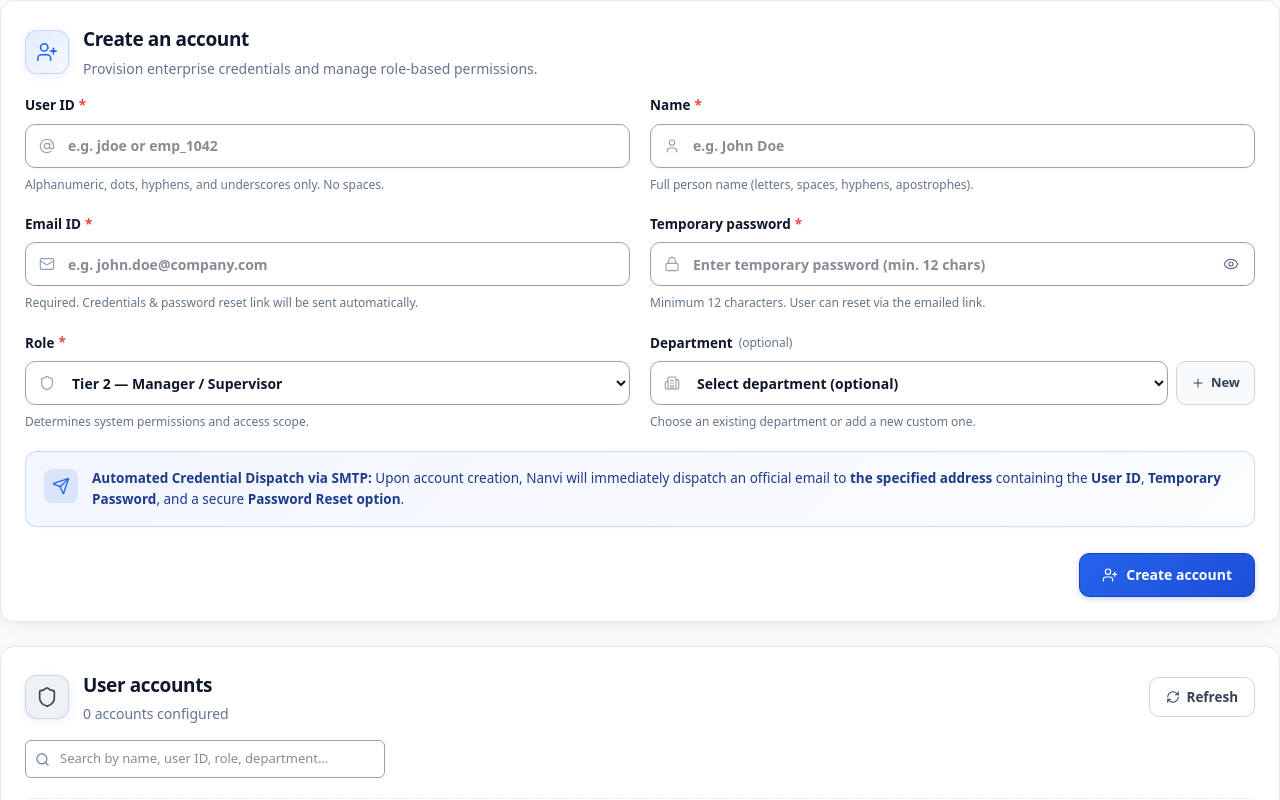
enforces required Email ID and blocks creation without it
Type "valid.user" into the field labelled "User ID" at x=328, y=146, box [25,124,630,168]
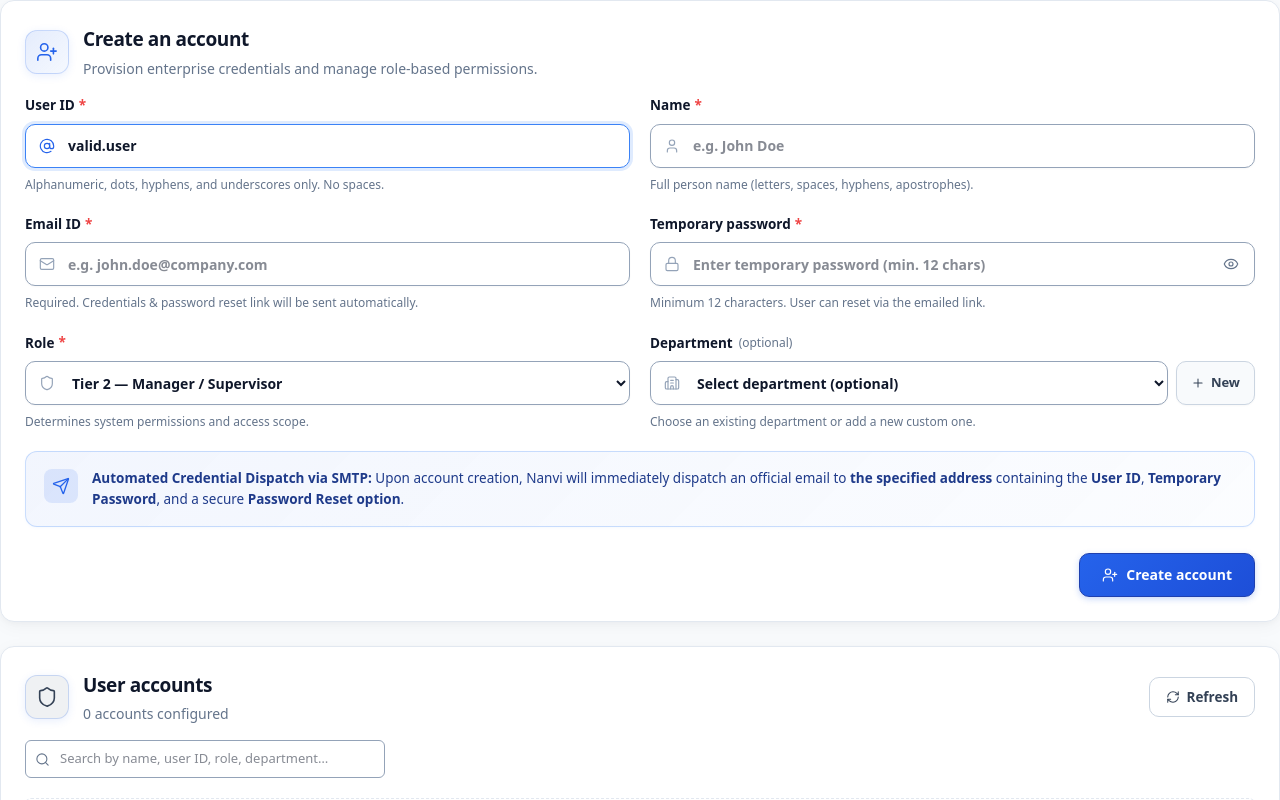
Type "Valid User" into the field labelled "Name" at x=952, y=146, box [650,124,1255,168]
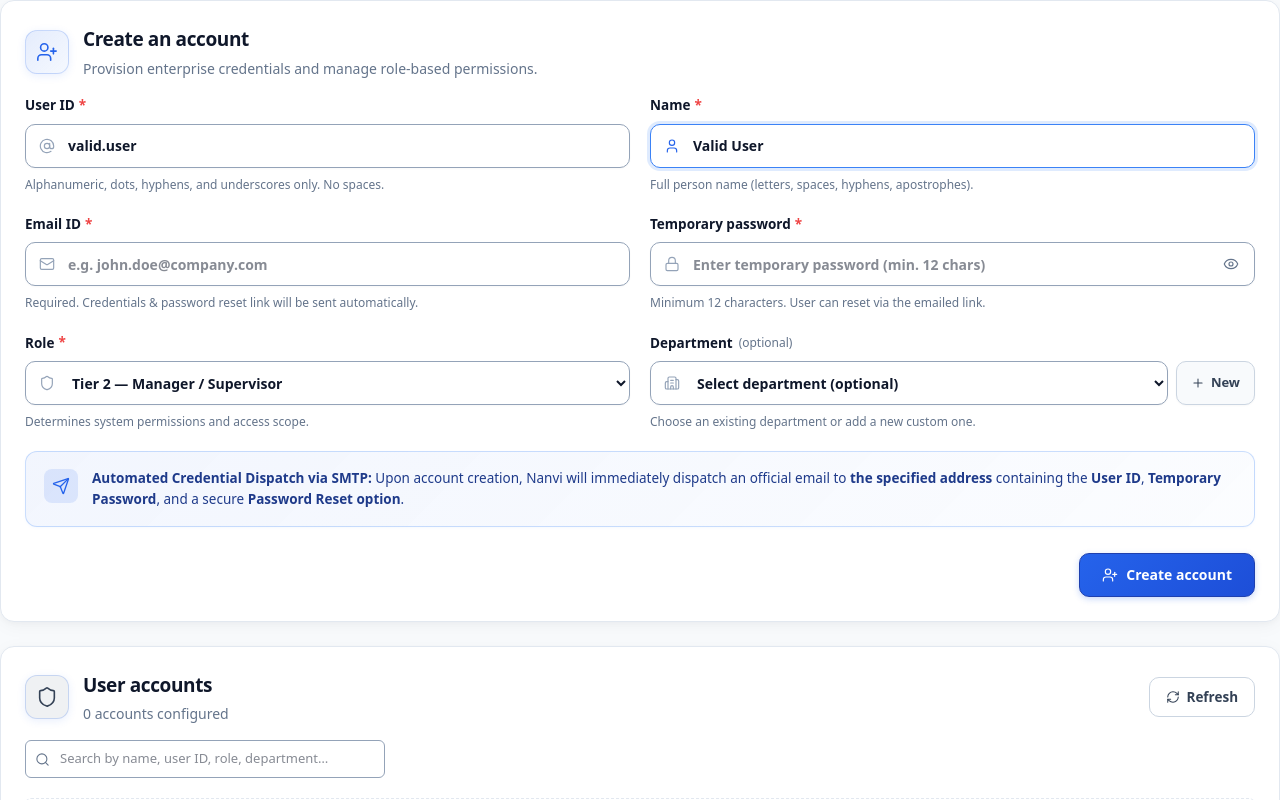
Type "secure-project-password" into the password field labelled "Temporary password" at x=952, y=264, box [650,242,1255,286]
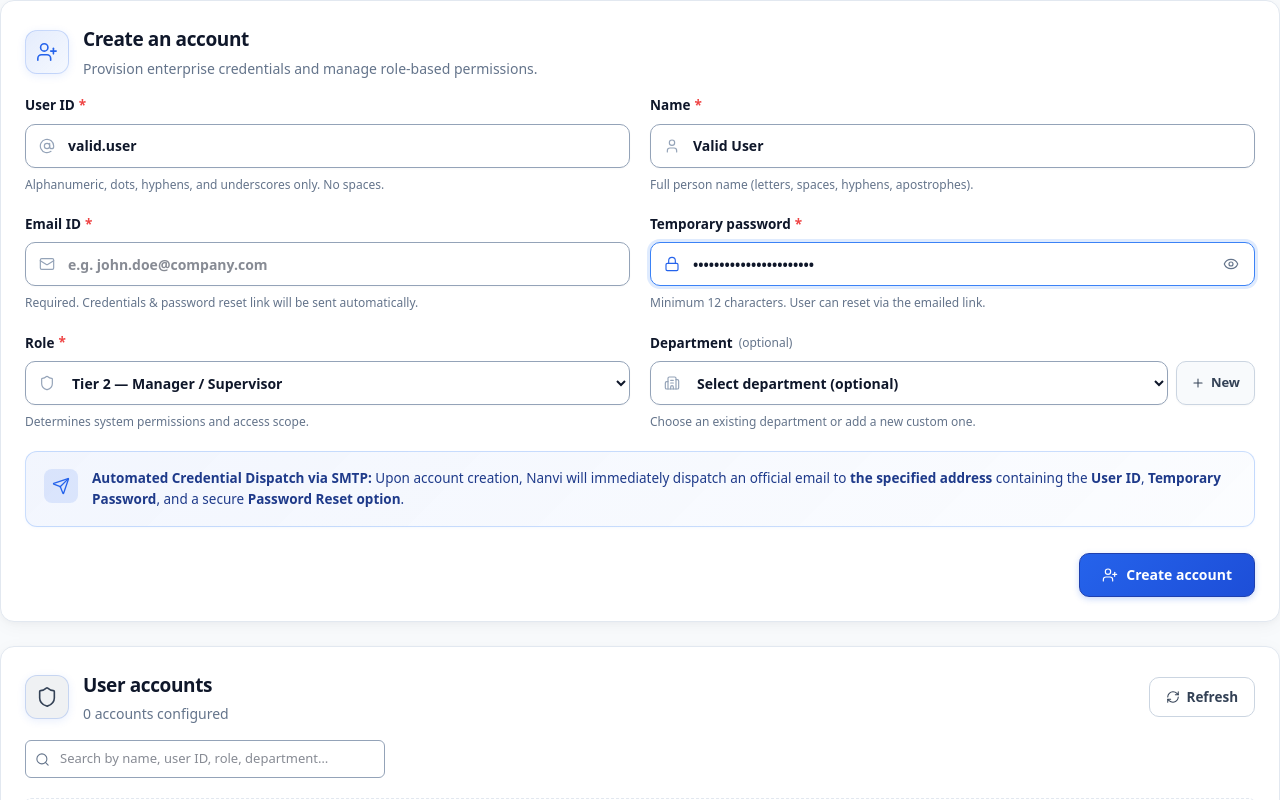
// Leave email empty and attempt submit
Click the button "Create account" at x=1167, y=575, box [1079,553,1255,597]
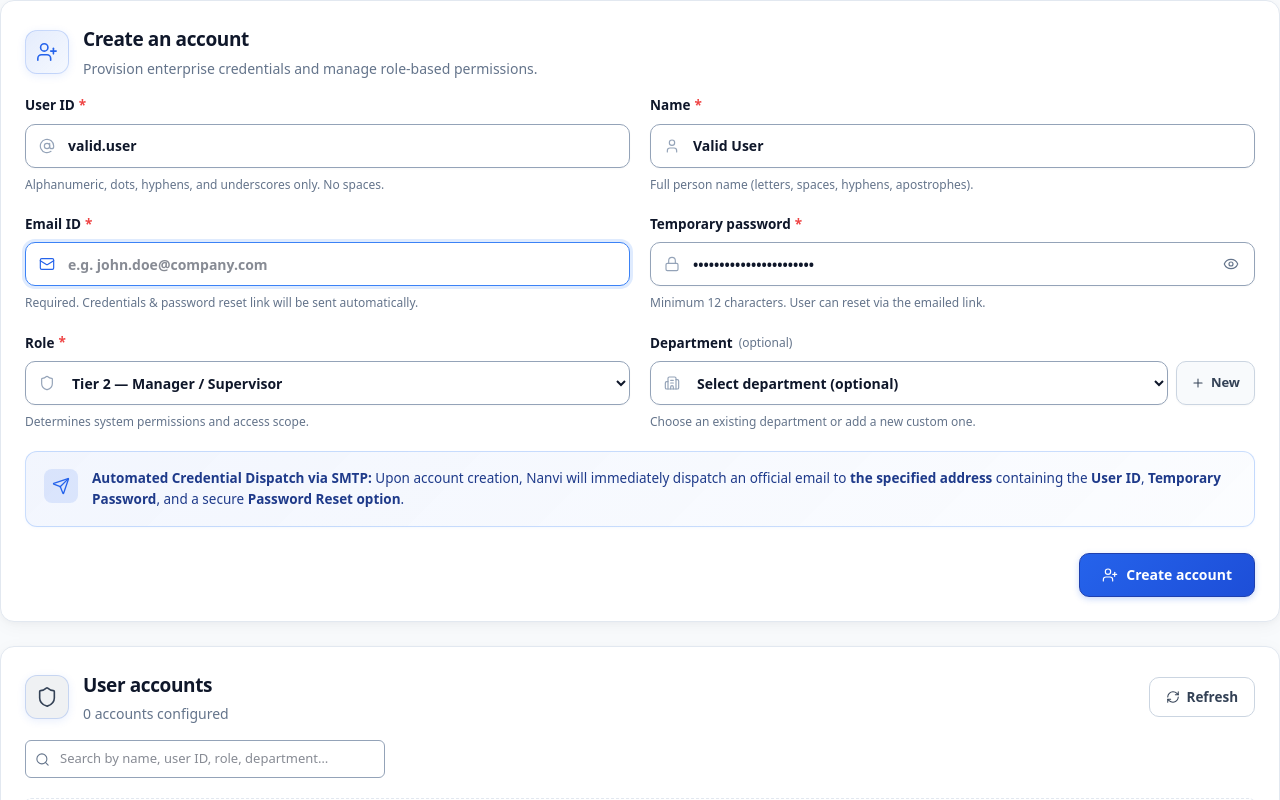
// Type invalid email
Type "not-an-email" into the field labelled "Email ID" at x=328, y=264, box [25,242,630,286]
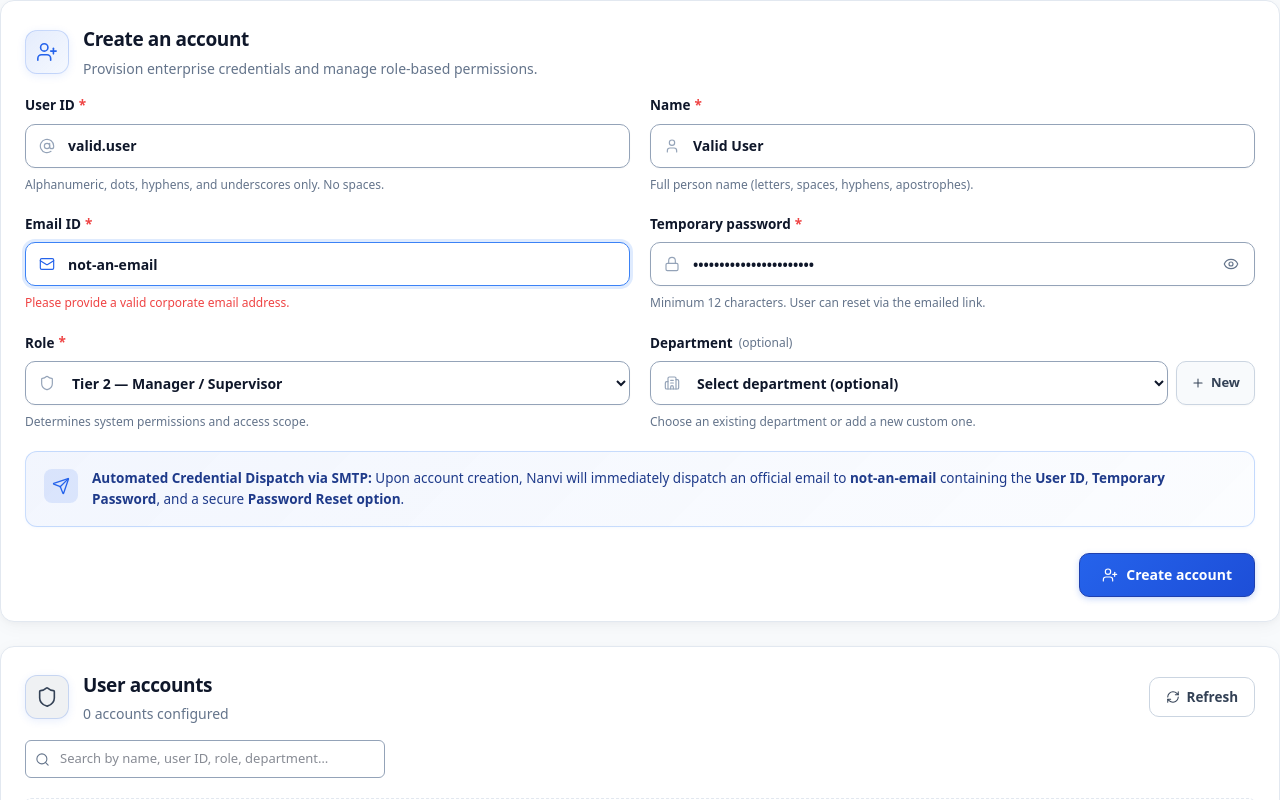
Expected: the text "Please provide a valid corporate email address." is shown, [25,294,290,311]
